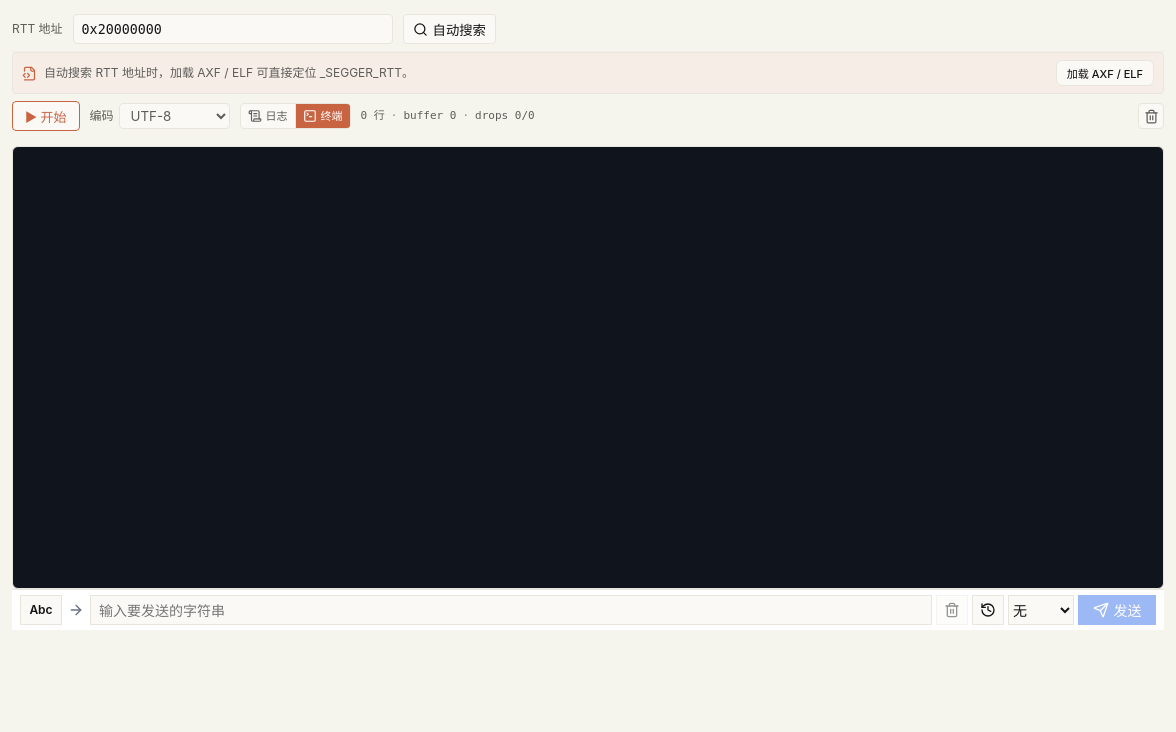
RttViewTab binary migration › preserves the current address on search failure and ignores stale results
The width and height of the screenshot is (1176, 732).
Click the button with test id "rtt-search" at (449, 29), box left=403, top=14, right=496, bottom=44
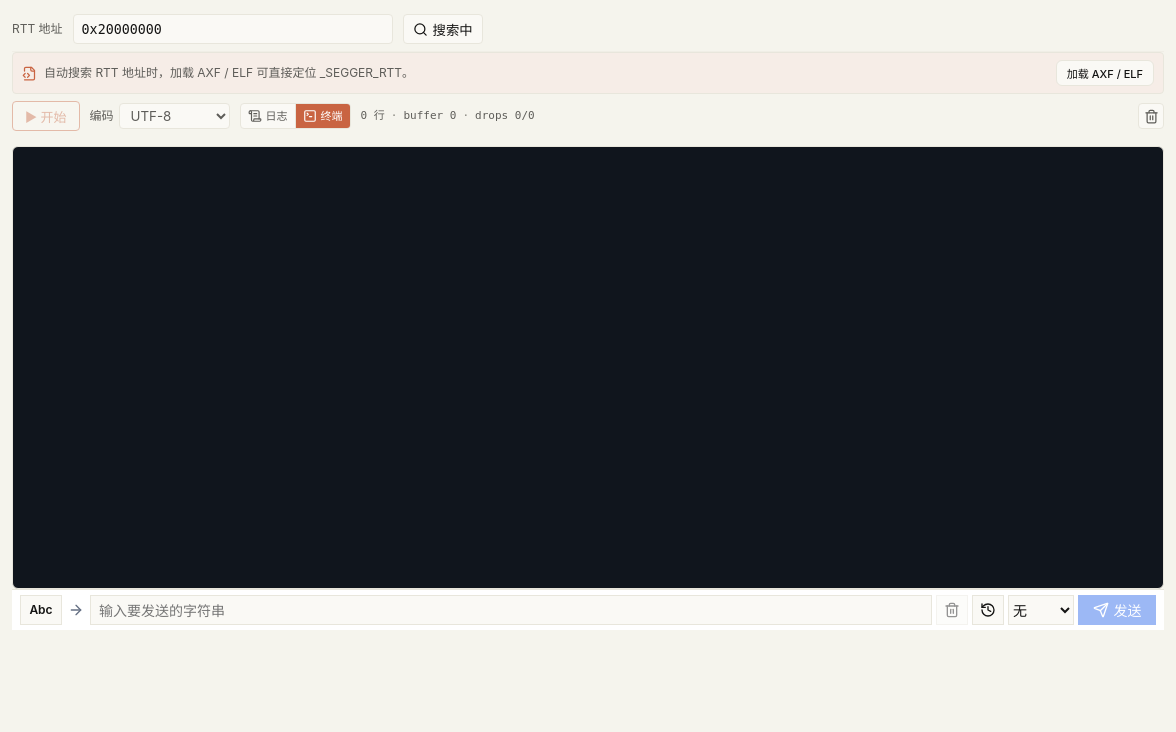
Click the button with test id "rtt-search" at (443, 29), box left=403, top=14, right=483, bottom=44
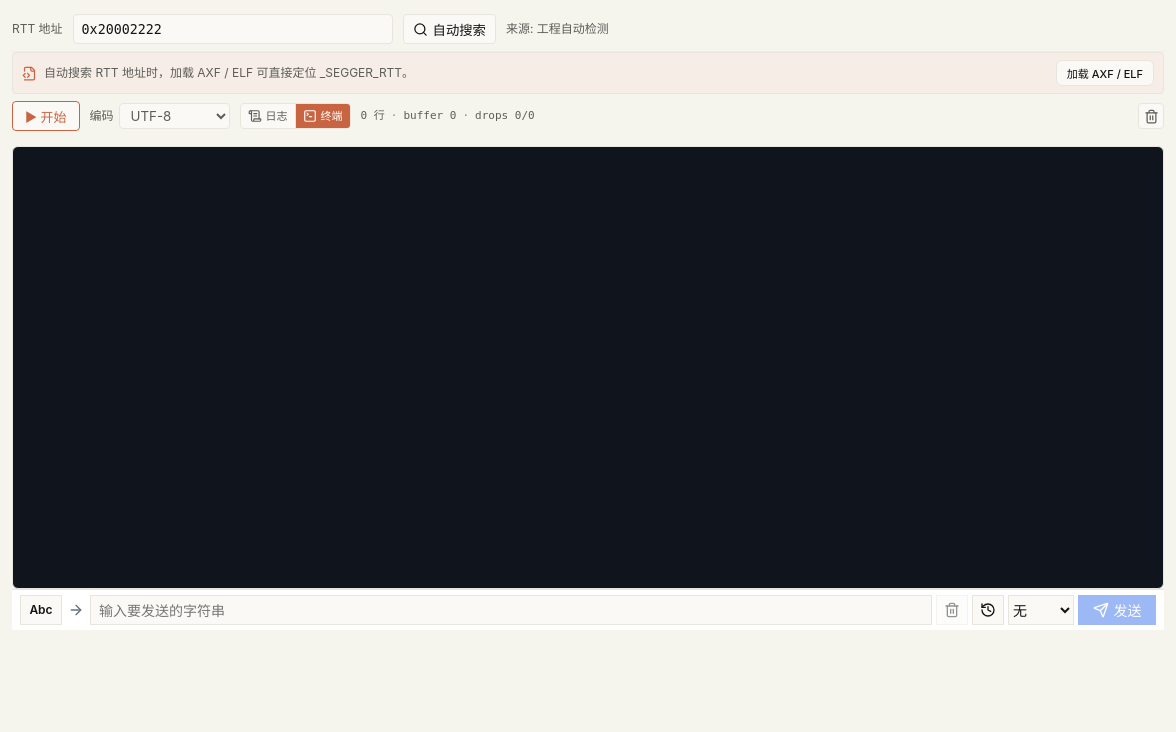
Result: the field with test id "rtt-address" holds "0x20002222" at left=73, top=14, right=393, bottom=44
Click the button with test id "rtt-search" at (449, 29), box left=403, top=14, right=496, bottom=44
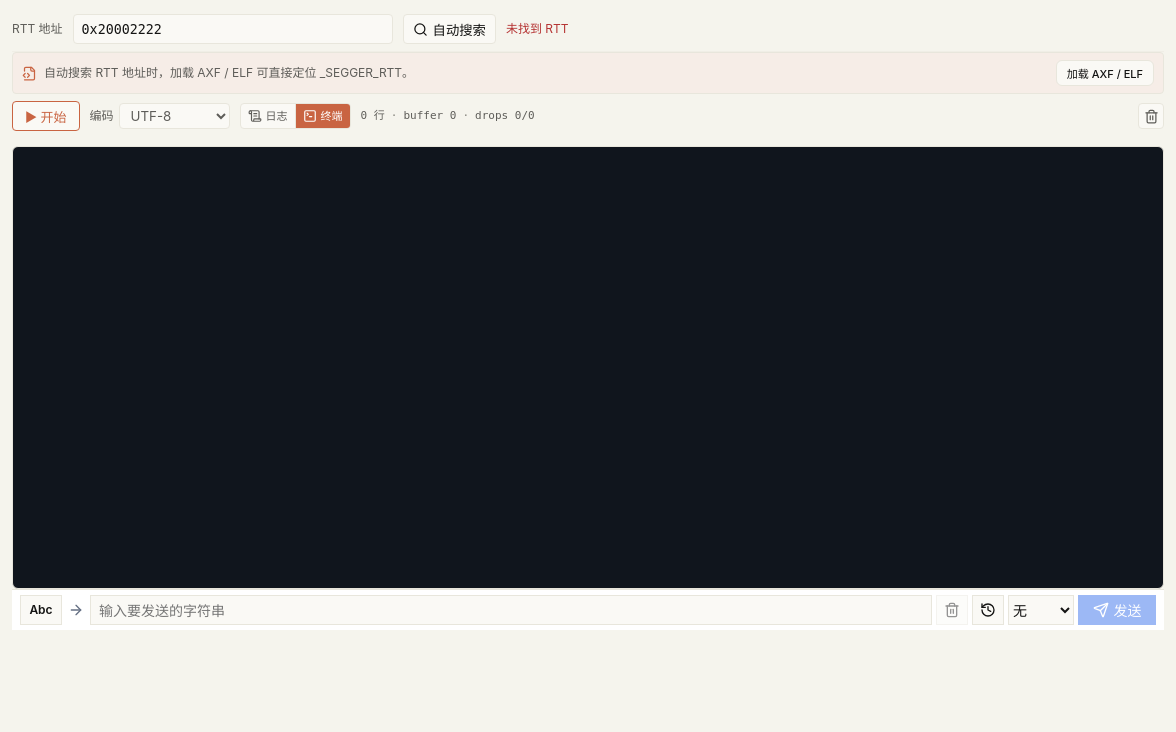
Result: the field with test id "rtt-address" holds "0x20002222" at left=73, top=14, right=393, bottom=44
Result: the text "未找到 RTT" is shown at left=506, top=21, right=568, bottom=36
